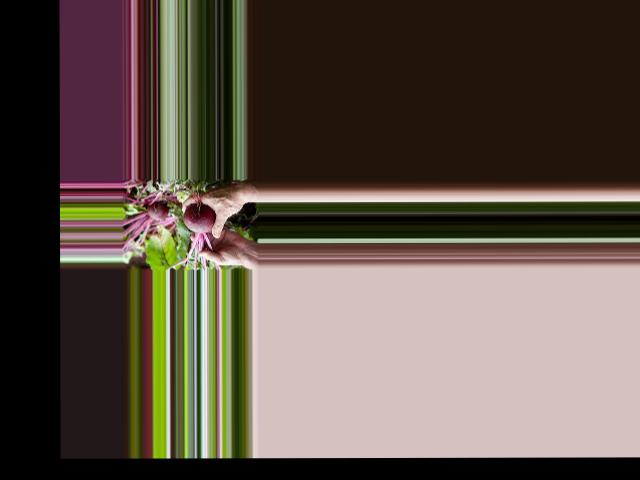beet: (165, 202, 217, 269)
